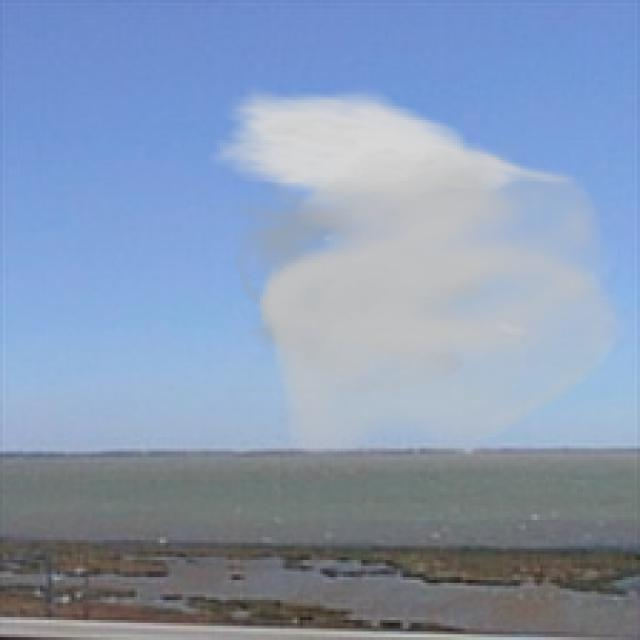smoke: (209, 86, 634, 457)
